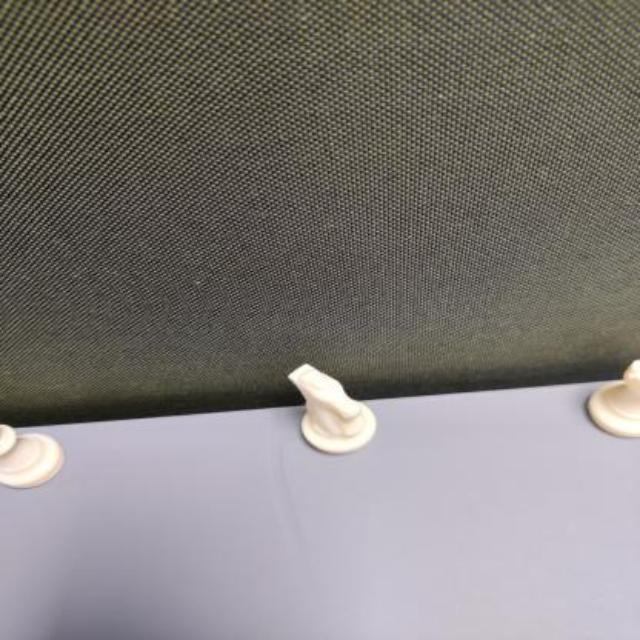white-knight: (290, 361, 378, 454)
